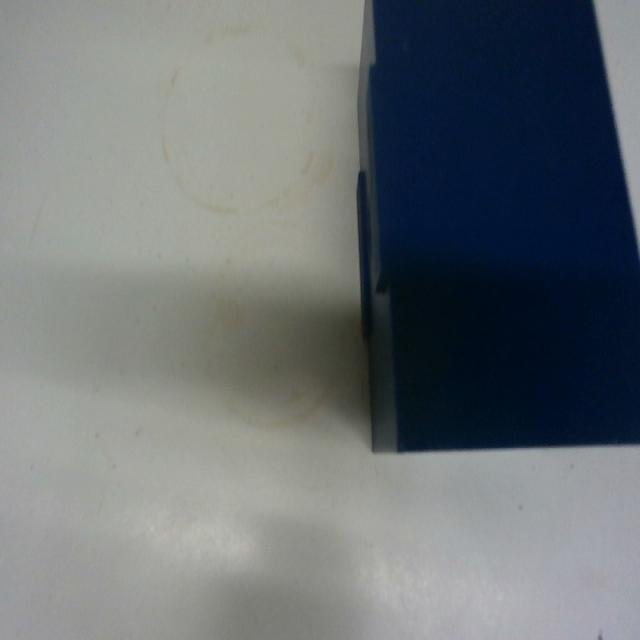Blue Cuboid: (353, 0, 639, 455)
